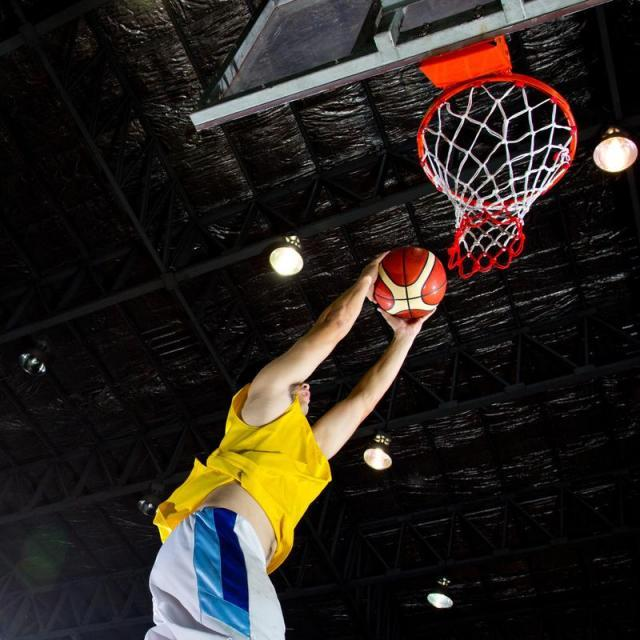rim: (376, 248, 450, 322)
